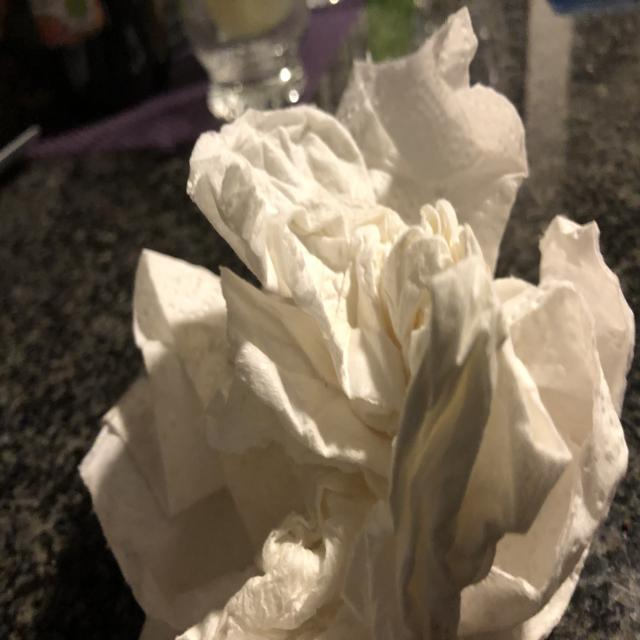kitchen paper: (344, 214, 640, 640), (84, 252, 403, 640), (182, 100, 493, 430), (325, 0, 536, 281)
